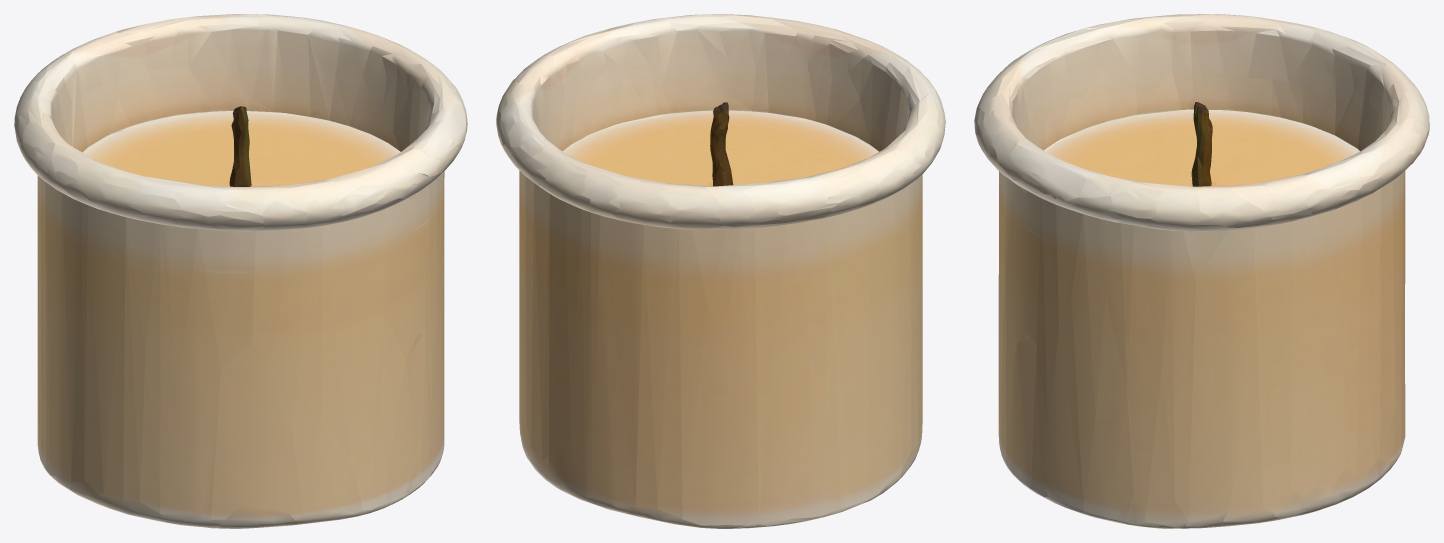
File: candle.glb
The picture shows the model from 3 angles, left to right: view 1: azimuth 30°, elevation 25°; view 2: azimuth 150°, elevation 25°; view 3: azimuth 270°, elevation 25°; orthographic projection.
Bounding box in the file's own units: 1.9 × 1.6 × 1.9.
1 material, 1 textured.
